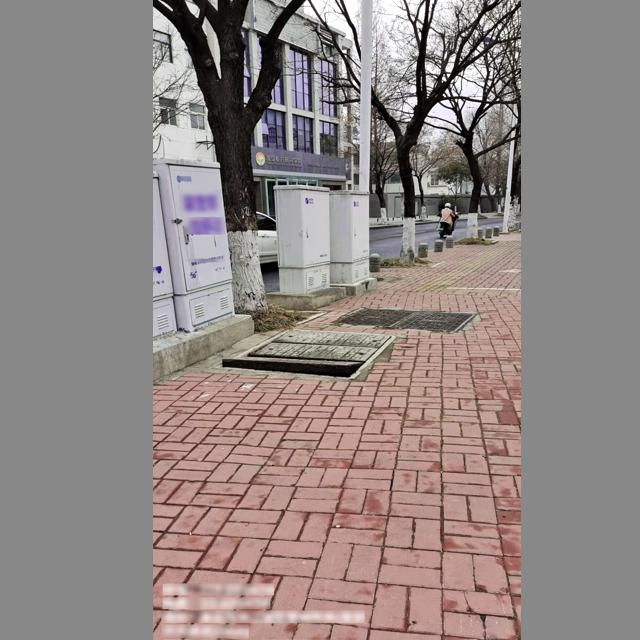good: (332, 304, 479, 335)
uncovered: (219, 329, 397, 383)
